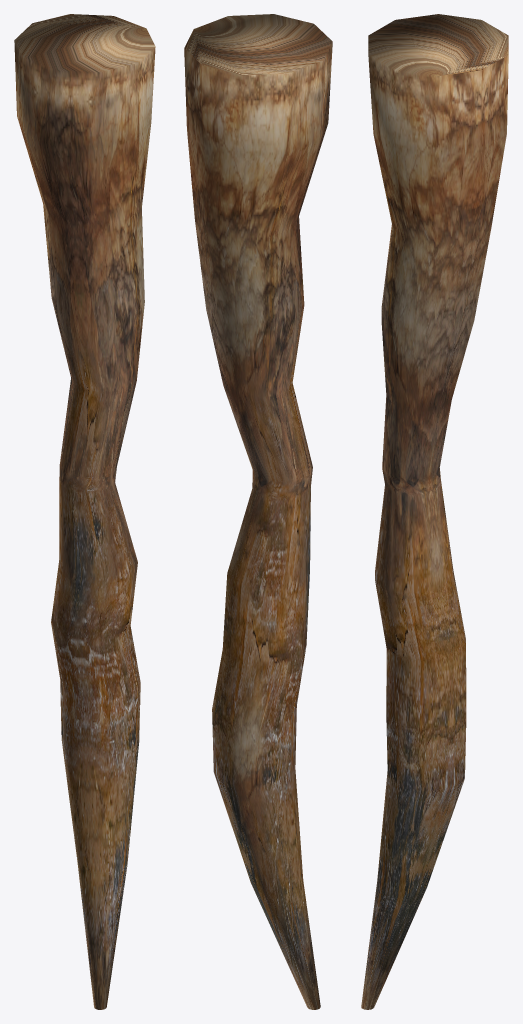
File: stalag2.obj
3 views of the same model, side by side, from view 1: azimuth 30°, elevation 25°; view 2: azimuth 150°, elevation 25°; view 3: azimuth 270°, elevation 25° (orthographic). The views are drawn at different scales.
Visible parts, largest first — view 1: stalag1; view 2: stalag1; view 3: stalag1.
Boxes of the visible parts, bbox=[...] form: stalag1: bbox=[14, 14, 155, 1009]; stalag1: bbox=[184, 14, 332, 1009]; stalag1: bbox=[361, 14, 508, 1009].
Size of the model in its own units: 16.09 by 117 by 16.07.
1 material, 1 textured.
